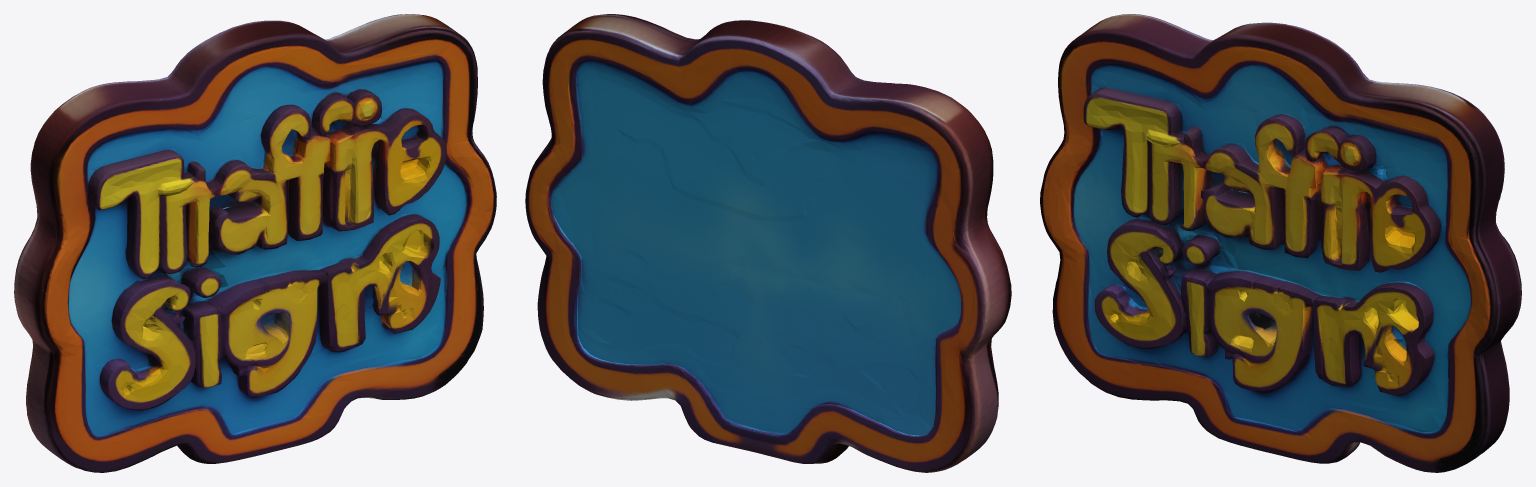
3 renders of one model, left to right at view 1: azimuth 30°, elevation 25°; view 2: azimuth 150°, elevation 25°; view 3: azimuth 330°, elevation 25°, orthographic.
Visible parts, largest first — view 1: world; view 2: world; view 3: world.
Part boxes in pixels (left/top/right/bottom): world: left=14, top=14, right=496, bottom=472; world: left=525, top=14, right=1011, bottom=472; world: left=1040, top=14, right=1521, bottom=472.
Bounding box in the file's own units: 0.999 × 0.8631 × 0.1382.
1 material, 1 textured.
